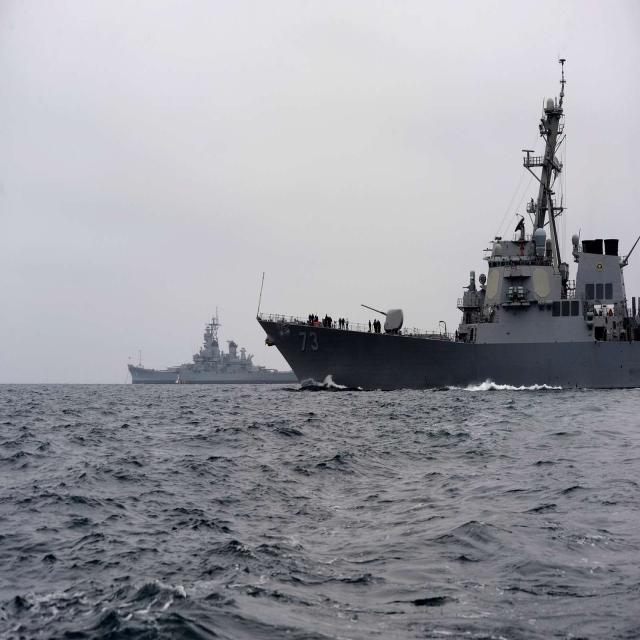navalvessels: (238, 57, 640, 402), (118, 253, 278, 438)
